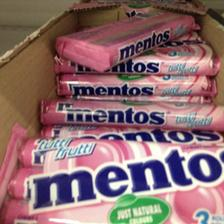Suessigkeit: (1, 134, 222, 222), (35, 57, 217, 132), (61, 9, 191, 64)
